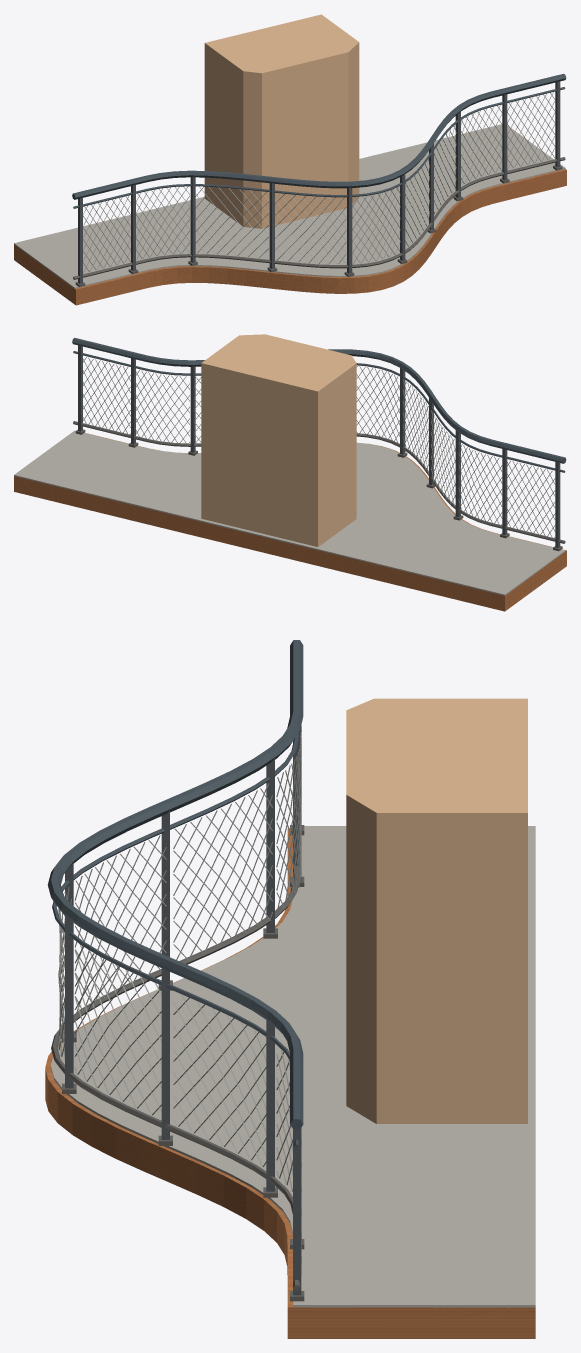
The model's file is xincheng-apartments-curved-court-gallery-far.glb.
3 views of the same model, one above another, from view 1: azimuth 30°, elevation 25°; view 2: azimuth 150°, elevation 25°; view 3: azimuth 270°, elevation 25° (orthographic). The views are drawn at different scales.
Parts seen in each view (by area): view 1: 新成大厦院内弧形外廊与菱格铁栏; view 2: 新成大厦院内弧形外廊与菱格铁栏; view 3: 新成大厦院内弧形外廊与菱格铁栏.
Boxes of the visible parts, <box> form: 新成大厦院内弧形外廊与菱格铁栏: <box>14,14,566,305</box>; 新成大厦院内弧形外廊与菱格铁栏: <box>14,334,566,611</box>; 新成大厦院内弧形外廊与菱格铁栏: <box>45,640,535,1338</box>.
Bounding box in the file's own units: 5.8 × 1.95 × 2.51.
Materials: 8 (1 with a texture image).
